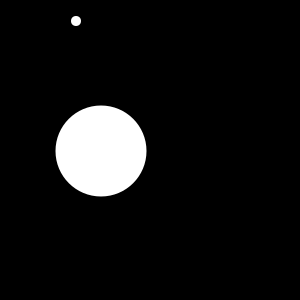rectangle: (56, 105, 146, 196), (71, 16, 81, 26)
